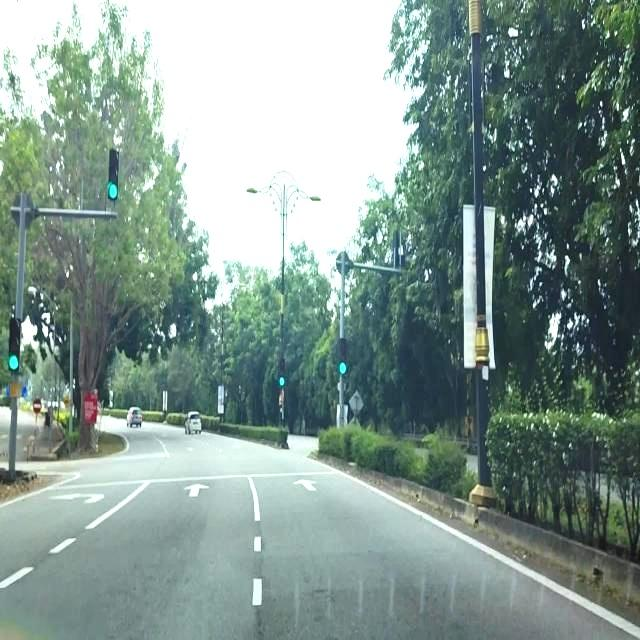Green: (8, 317, 21, 372), (108, 148, 119, 200), (338, 336, 347, 376), (278, 358, 285, 387)
